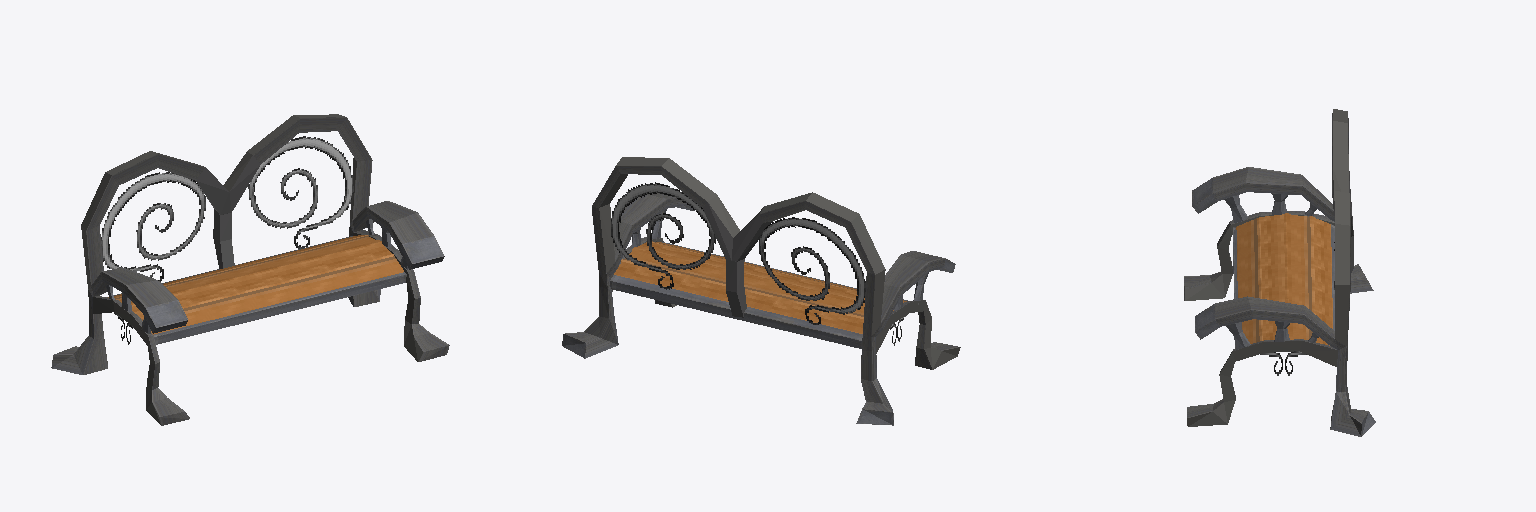
3 renders of one model, left to right at view 1: azimuth 30°, elevation 25°; view 2: azimuth 150°, elevation 25°; view 3: azimuth 270°, elevation 25°, orthographic.
Visible parts, largest first — view 1: object 1, 2, 3; view 2: object 1, 2, 3; view 3: object 1, 2.
Part boxes in pixels (bbox=[...]): object 1: bbox=[51, 114, 449, 425]; 2: bbox=[108, 235, 403, 334]; 3: bbox=[101, 136, 353, 344]; object 1: bbox=[562, 157, 960, 425]; 2: bbox=[614, 241, 906, 333]; 3: bbox=[611, 182, 906, 345]; object 1: bbox=[1184, 109, 1375, 436]; 2: bbox=[1236, 213, 1332, 345].
Bounding box in the file's own units: 15.58 × 9.05 × 7.84.
Materials: 3 (3 with a texture image).